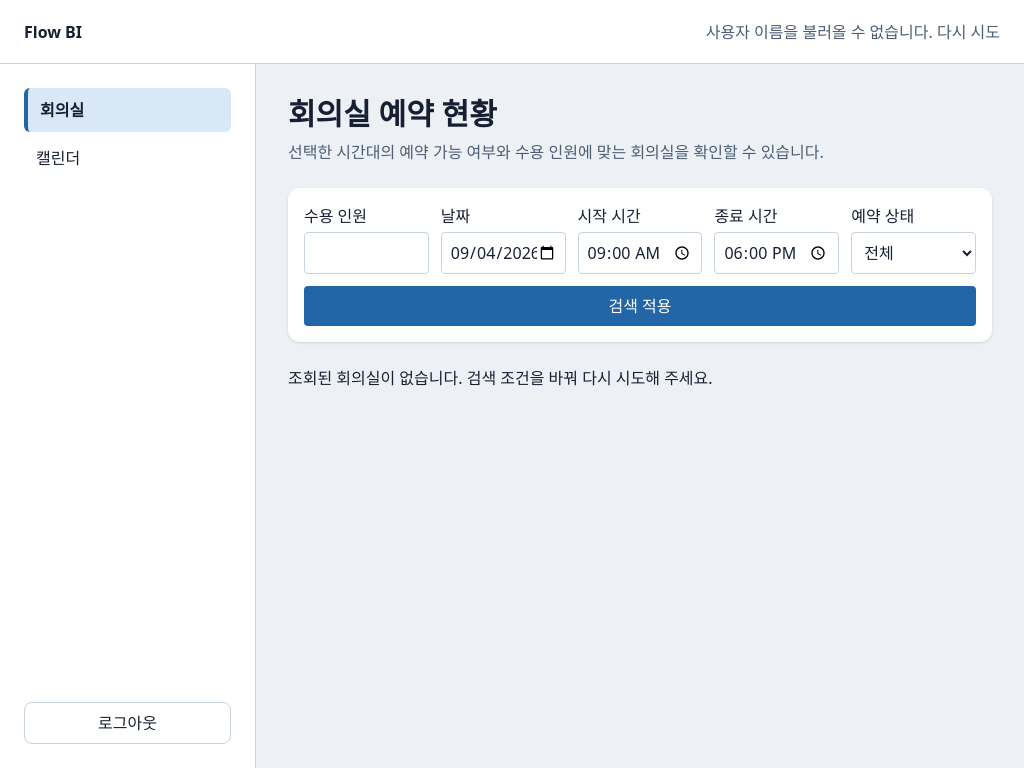
App authentication guard › returns to login after logout and does not retain the protected screen
Click the button "로그아웃" at (128, 723), box [24, 702, 231, 744]
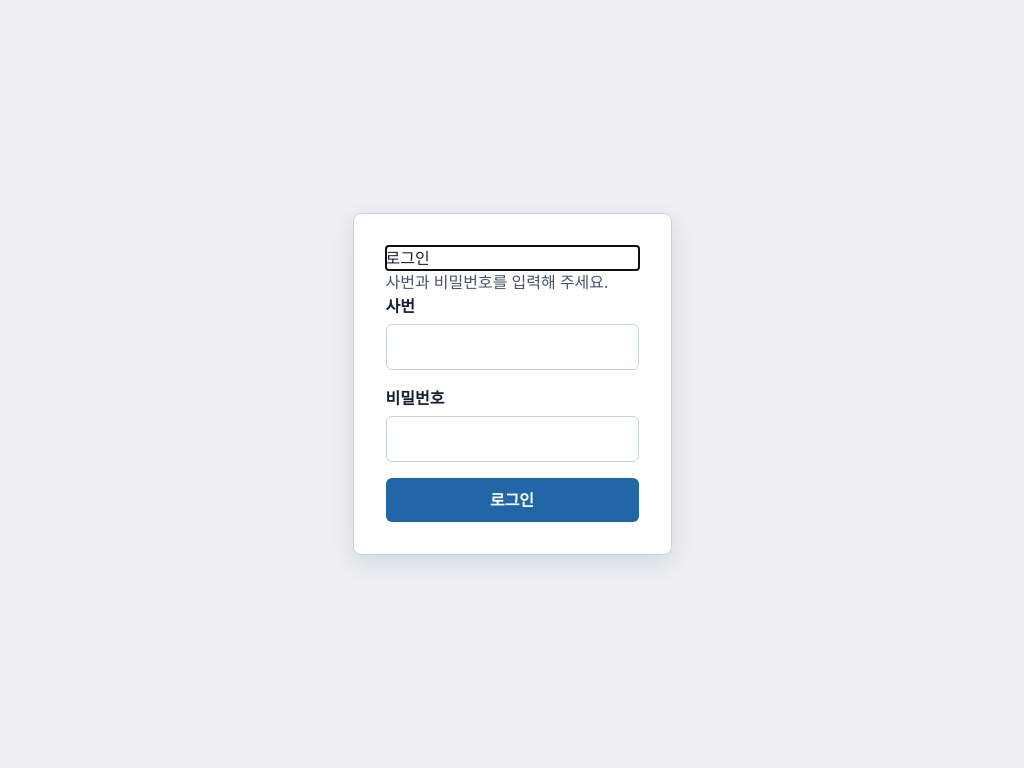
Check: the heading "로그인" is shown, box [386, 247, 430, 269]
Check: the heading "Flow BI" is gone
